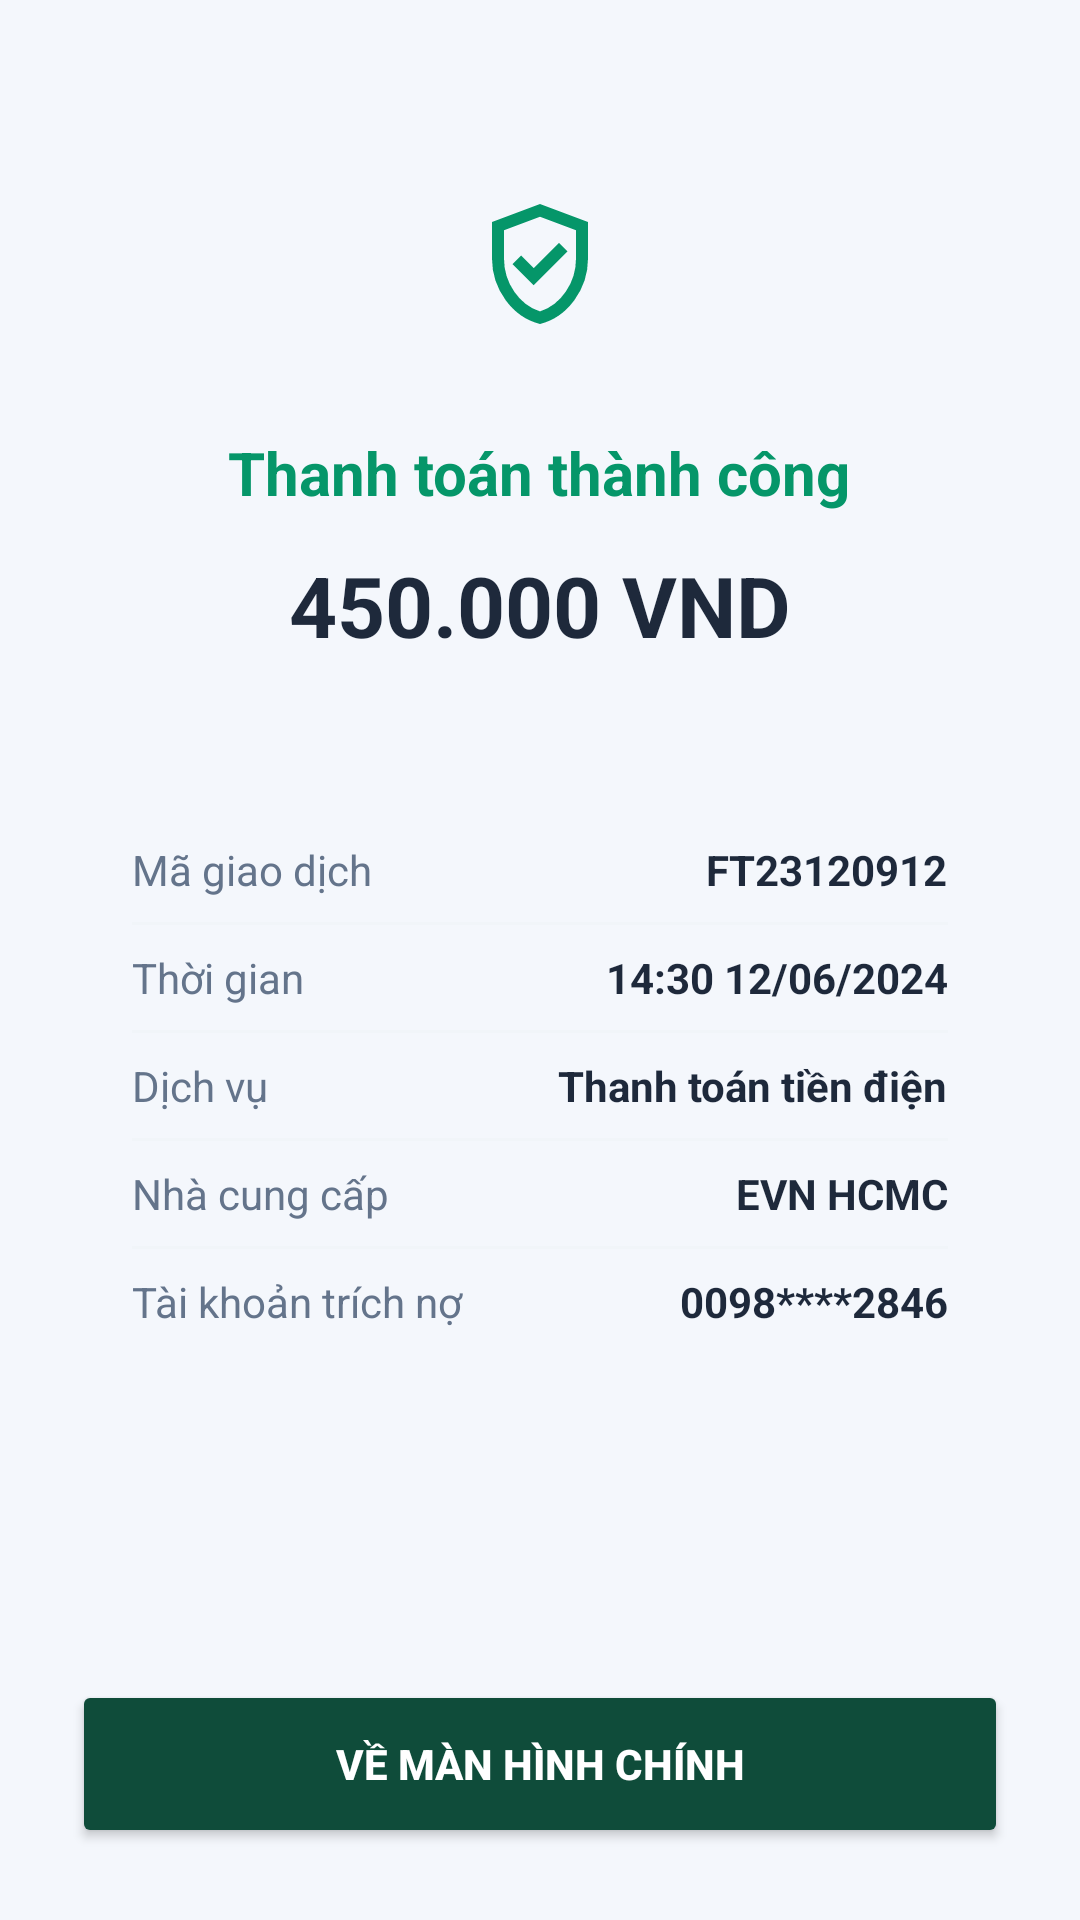

Locate icon controls on the screen. Image size 1080*1920, boxes as (x1, y1, x2, y2).
verified user: (492, 204, 588, 324)
